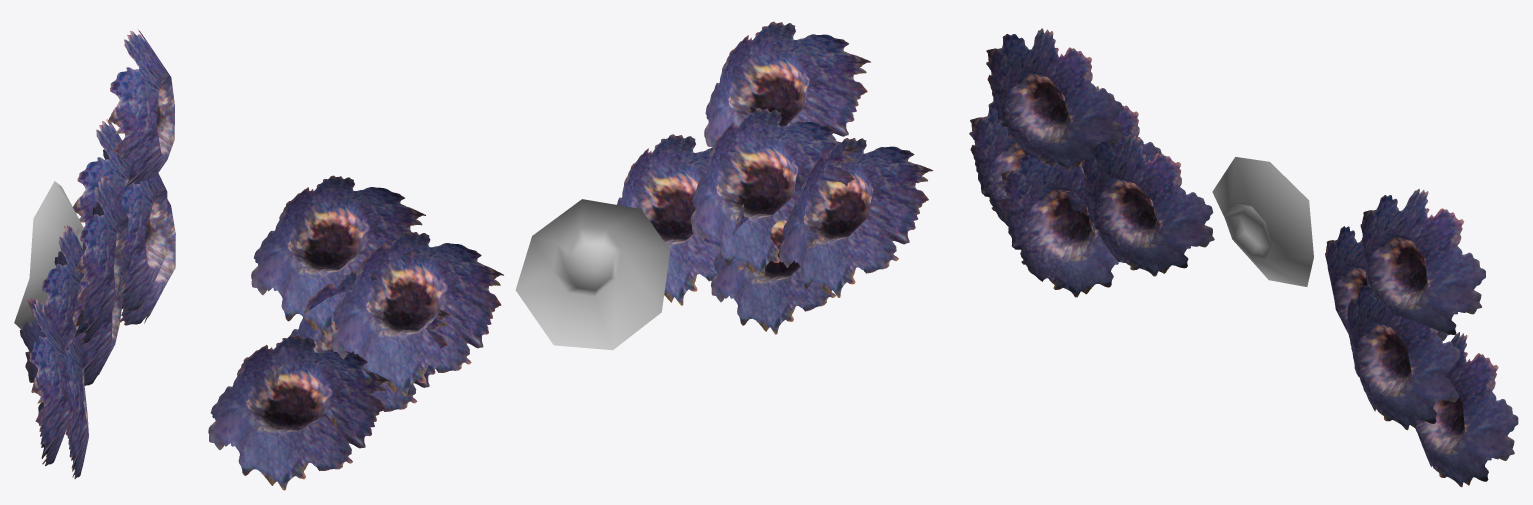
Rendered from Right_Flower7.fbx.
3 views of the same model, side by side, from view 1: azimuth 30°, elevation 25°; view 2: azimuth 150°, elevation 25°; view 3: azimuth 270°, elevation 25° (orthographic). The views are drawn at different scales.
Visible parts, largest first — view 1: Circle.1928, Circle.1935, Circle.1930, Circle.1931, Circle.1943, Circle.1934, Circle.1933, Circle.1927, Circle.1929, Circle.1932; view 2: Circle.1933, Circle.1932, Circle.1943, Circle.1934, Circle.1930, Circle.1928, Circle.1935, Circle.1929, Circle.1927, Circle.1931; view 3: Circle.1935, Circle.1928, Circle.1929, Circle.1927, Circle.1931, Circle.1943, Circle.1932, Circle.1930, Circle.1933, Circle.1934.
Part boxes in pixels (x1=…): Circle.1928: x1=108, y1=30, x2=174, y2=186; Circle.1935: x1=74, y1=175, x2=128, y2=344; Circle.1930: x1=20, y1=298, x2=70, y2=466; Circle.1931: x1=121, y1=173, x2=167, y2=311; Circle.1943: x1=14, y1=181, x2=84, y2=329; Circle.1934: x1=41, y1=225, x2=83, y2=350; Circle.1933: x1=73, y1=119, x2=135, y2=252; Circle.1927: x1=64, y1=319, x2=88, y2=478; Circle.1929: x1=73, y1=244, x2=130, y2=385; Circle.1932: x1=120, y1=180, x2=175, y2=325; Circle.1933: x1=331, y1=231, x2=503, y2=396; Circle.1932: x1=208, y1=334, x2=389, y2=490; Circle.1943: x1=515, y1=199, x2=670, y2=350; Circle.1934: x1=690, y1=108, x2=858, y2=276; Circle.1930: x1=779, y1=138, x2=933, y2=297; Circle.1928: x1=251, y1=175, x2=425, y2=335; Circle.1935: x1=704, y1=21, x2=870, y2=148; Circle.1929: x1=617, y1=134, x2=764, y2=305; Circle.1927: x1=711, y1=175, x2=870, y2=334; Circle.1931: x1=275, y1=270, x2=450, y2=427; Circle.1935: x1=986, y1=28, x2=1123, y2=169; Circle.1928: x1=1360, y1=188, x2=1485, y2=334; Circle.1929: x1=1081, y1=134, x2=1214, y2=276; Circle.1927: x1=1000, y1=154, x2=1124, y2=297; Circle.1931: x1=1347, y1=284, x2=1466, y2=430; Circle.1943: x1=1212, y1=157, x2=1313, y2=286; Circle.1932: x1=1414, y1=332, x2=1518, y2=487; Circle.1930: x1=969, y1=101, x2=1028, y2=226; Circle.1933: x1=1325, y1=226, x2=1449, y2=340; Circle.1934: x1=1049, y1=84, x2=1166, y2=213.
Size of the model in its own units: 43.59 by 37.35 by 53.11.
